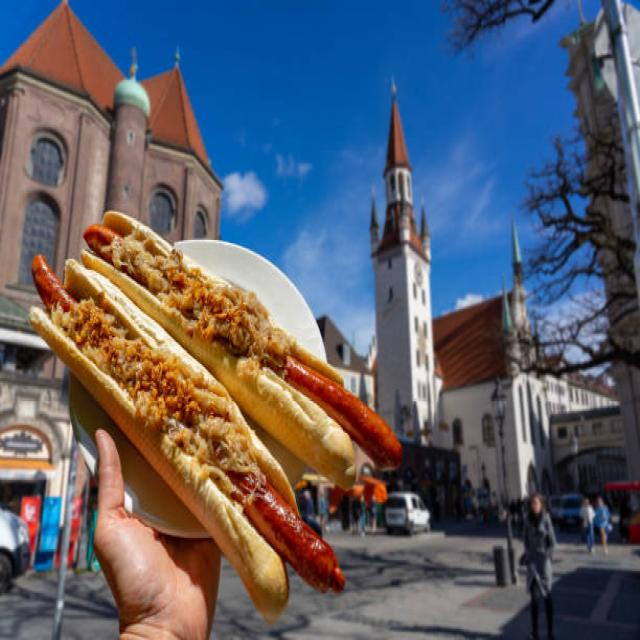Emperan: (0, 150, 430, 640)
